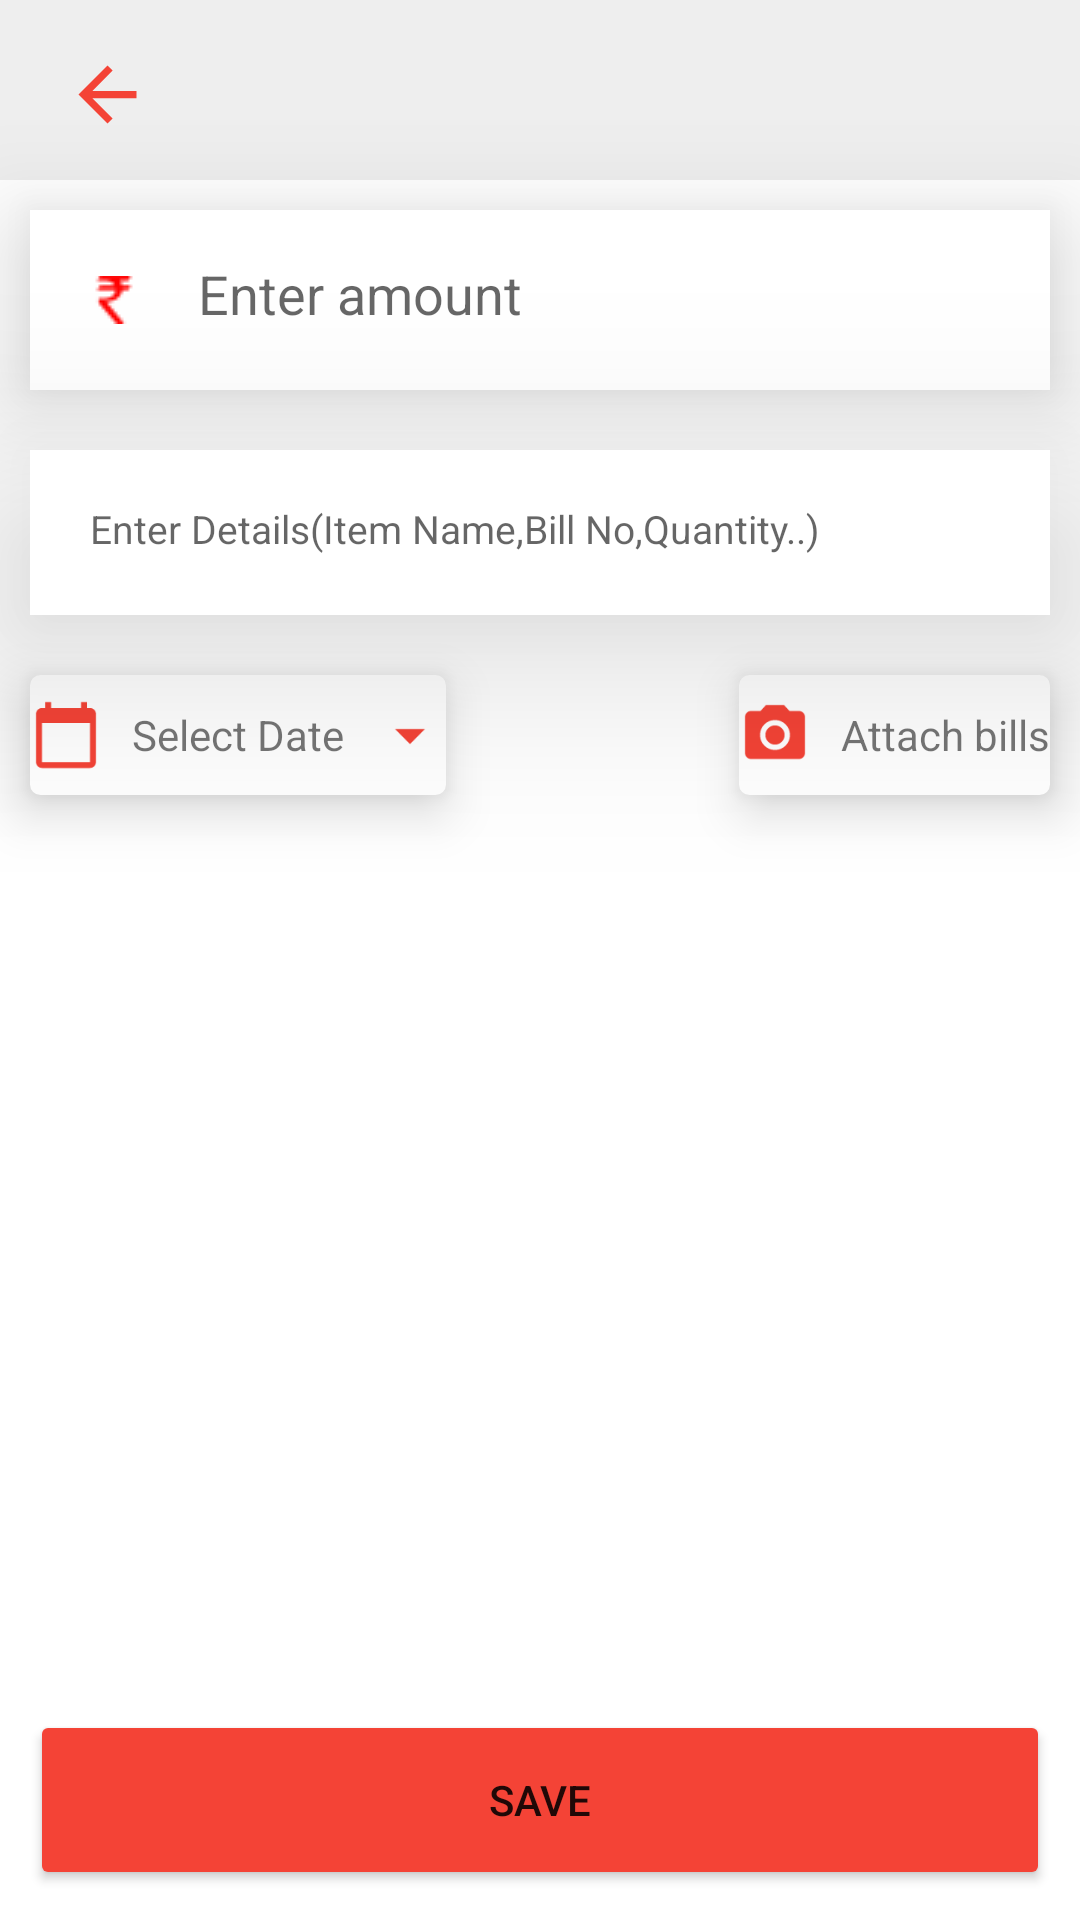

Screen size 1080w x 1920h. Icon name, then its box in pixels as detection(x1, y1, x2, y2):
leftarrow: detection(78, 65, 137, 124)
